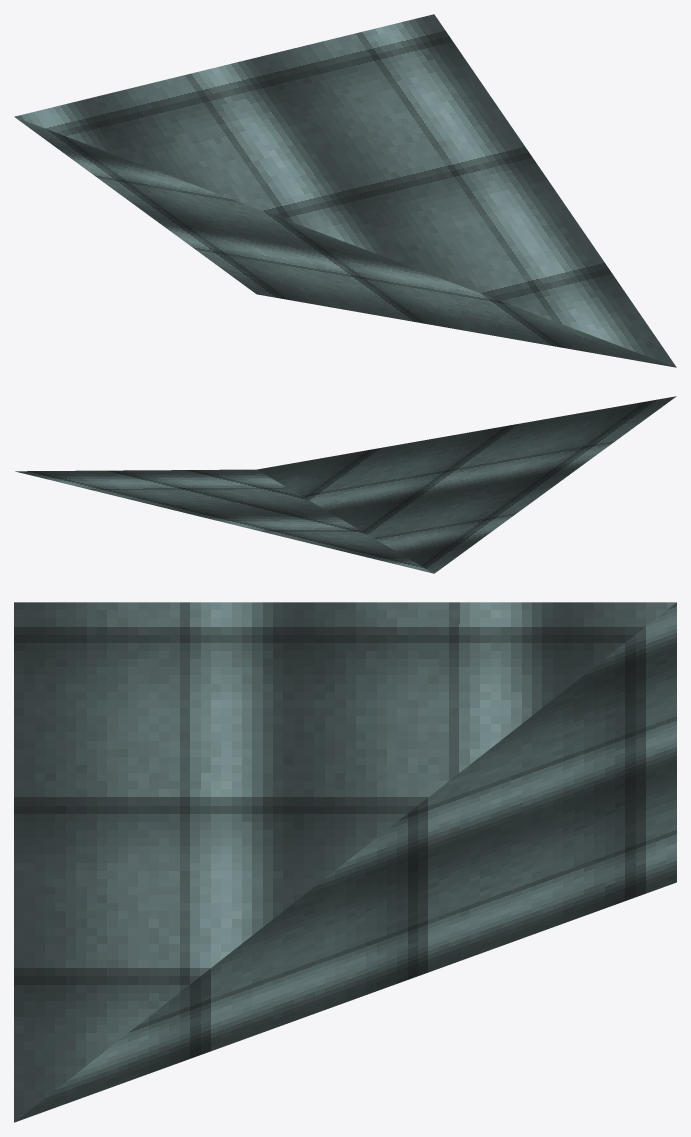
File: roof_inner_corner_edge_1x1.glb
3 renders of one model, top to bottom at view 1: azimuth 30°, elevation 25°; view 2: azimuth 150°, elevation 25°; view 3: azimuth 270°, elevation 25°, orthographic. The views are drawn at different scales.
Visible parts, largest first — view 1: roof_inner_corner_edge_1x1; view 2: roof_inner_corner_edge_1x1; view 3: roof_inner_corner_edge_1x1.
Part boxes in pixels (x1,y1,x2,y2): roof_inner_corner_edge_1x1: [14, 14, 676, 367]; roof_inner_corner_edge_1x1: [15, 396, 676, 573]; roof_inner_corner_edge_1x1: [14, 602, 676, 1122].
Size of the model in its own units: 1 by 0.4 by 1.
1 material, 1 textured.
